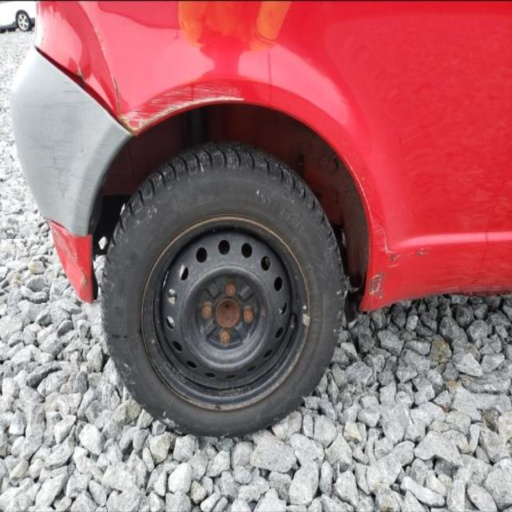dent: (64, 17, 121, 119), (53, 227, 90, 298), (50, 221, 78, 265)
rust: (110, 74, 138, 135), (369, 271, 385, 298), (75, 64, 87, 84), (80, 265, 88, 290), (416, 246, 428, 259), (388, 253, 396, 264)
scratch: (114, 83, 243, 135), (351, 165, 407, 272), (52, 224, 82, 271), (367, 271, 387, 304), (417, 248, 432, 258)
